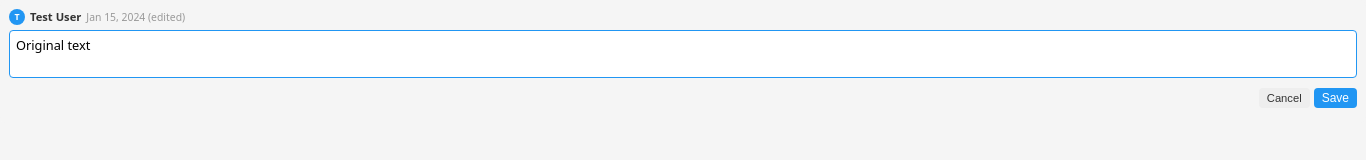
Test: CommentThread › edit functionality › disables save button when edit text is empty
Earlier steps of the test are not shown.
Clear the text box showing "Original text" at (683, 54), box [9,30,1357,78]
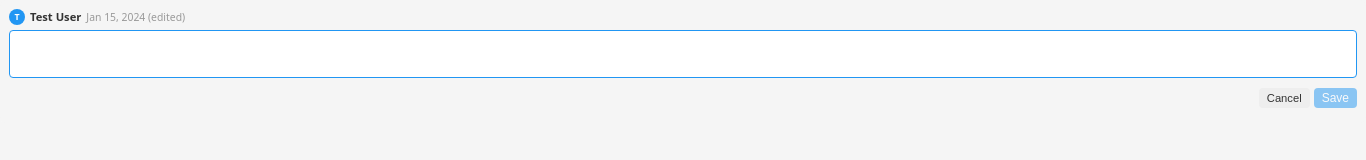
Now the button "Save" is disabled, box [1314,88,1357,108]
